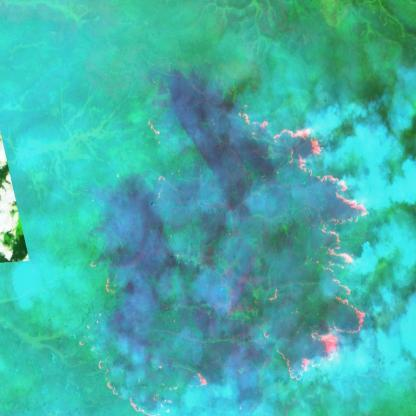fire: (252, 105, 374, 383), (101, 364, 215, 416)
